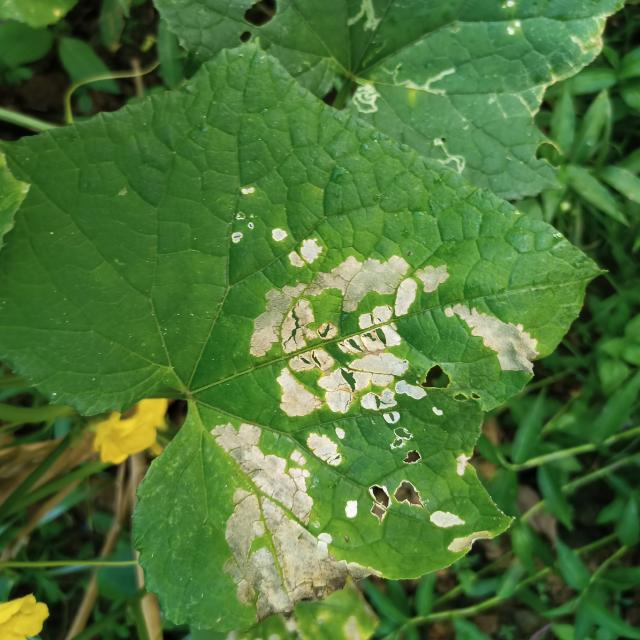disease_cucumber: (202, 418, 504, 622), (247, 225, 543, 422), (223, 185, 263, 245)
